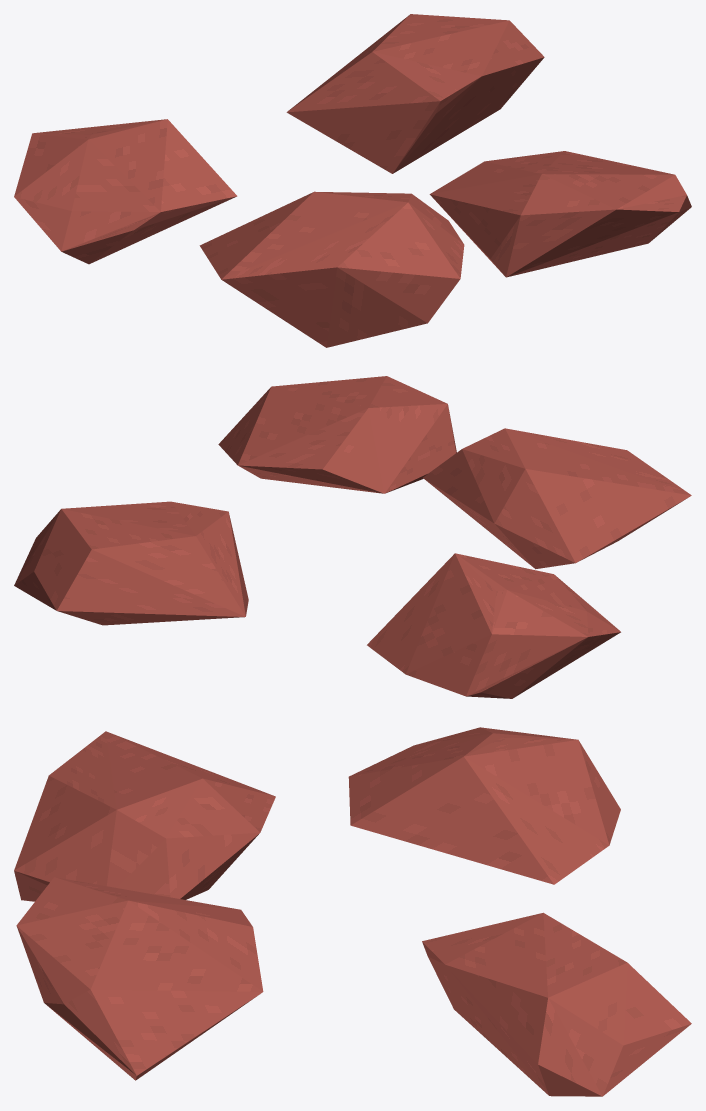
Rendered from dry_meat.glb.
The picture shows the model from 3 angles, top to bottom: view 1: azimuth 30°, elevation 25°; view 2: azimuth 150°, elevation 25°; view 3: azimuth 270°, elevation 25°; orthographic projection. The views are drawn at different scales.
Parts seen in each view (by area): view 1: block_dry piece (×4); view 2: block_dry piece (×4); view 3: block_dry piece (×4).
Part boxes in pixels (x1=…): block_dry piece (×4): x1=14, y1=14, x2=691, y2=347; block_dry piece (×4): x1=14, y1=376, x2=691, y2=698; block_dry piece (×4): x1=14, y1=727, x2=691, y2=1096.
Bounding box in the file's own units: 0.094 × 0.0174 × 0.0839.
1 material, 1 textured.
